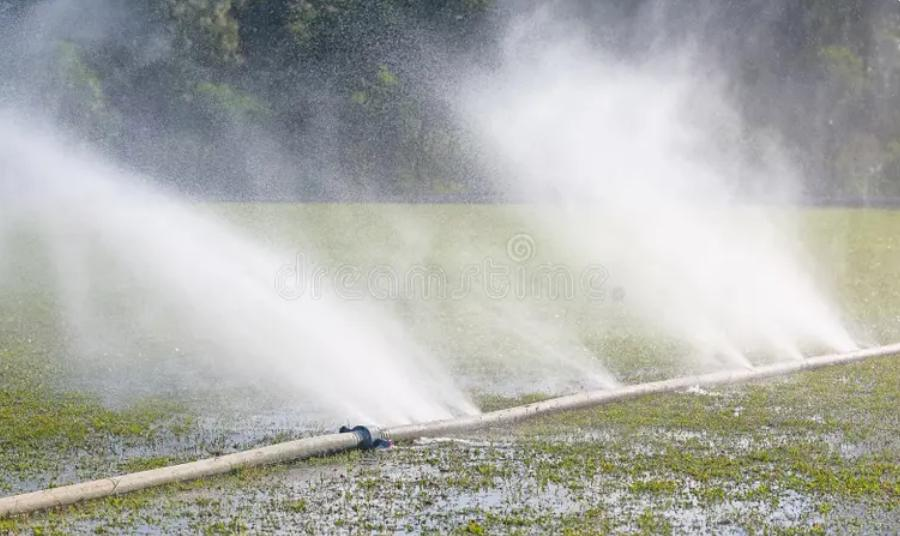pipe burst: (443, 10, 888, 399), (0, 111, 485, 437)
